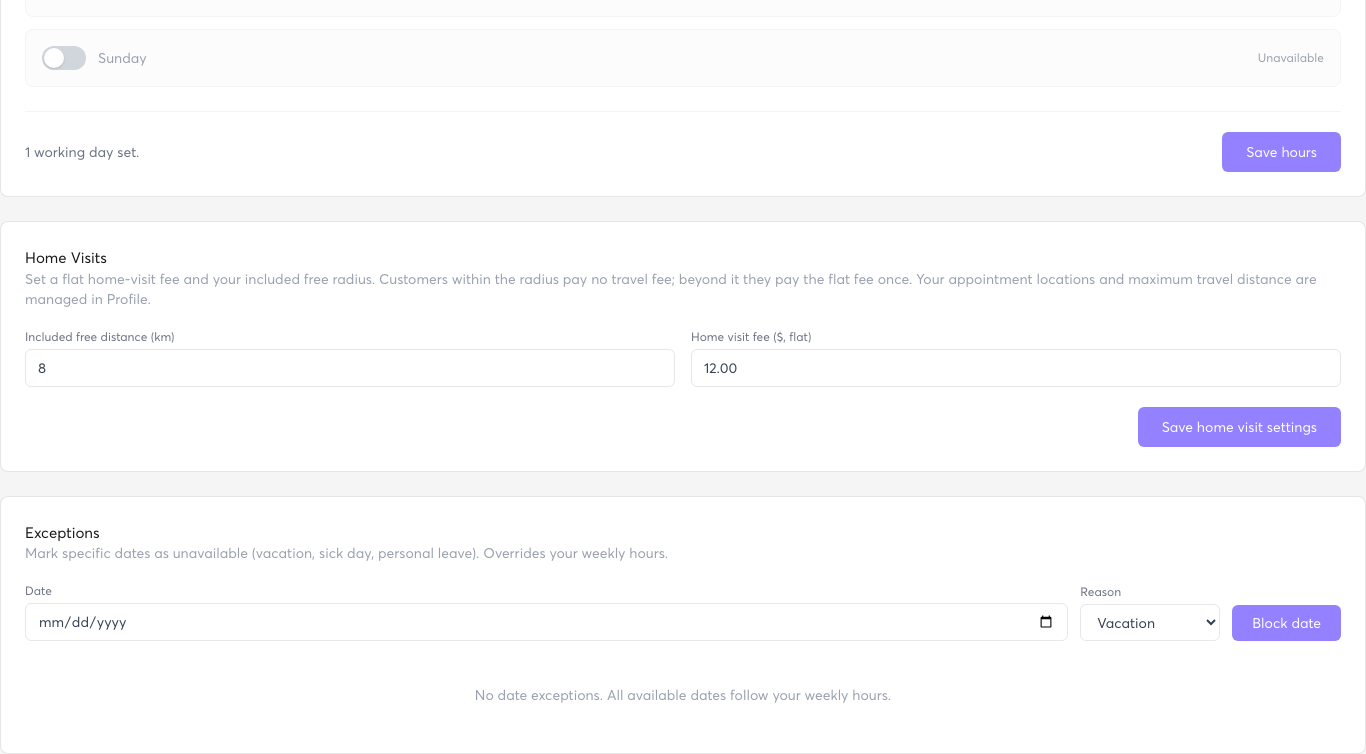
Test: says inline that a date is needed before blocking one
(page scrolled)
Click the button "Block date": (1287, 623) [1232,605,1341,641]
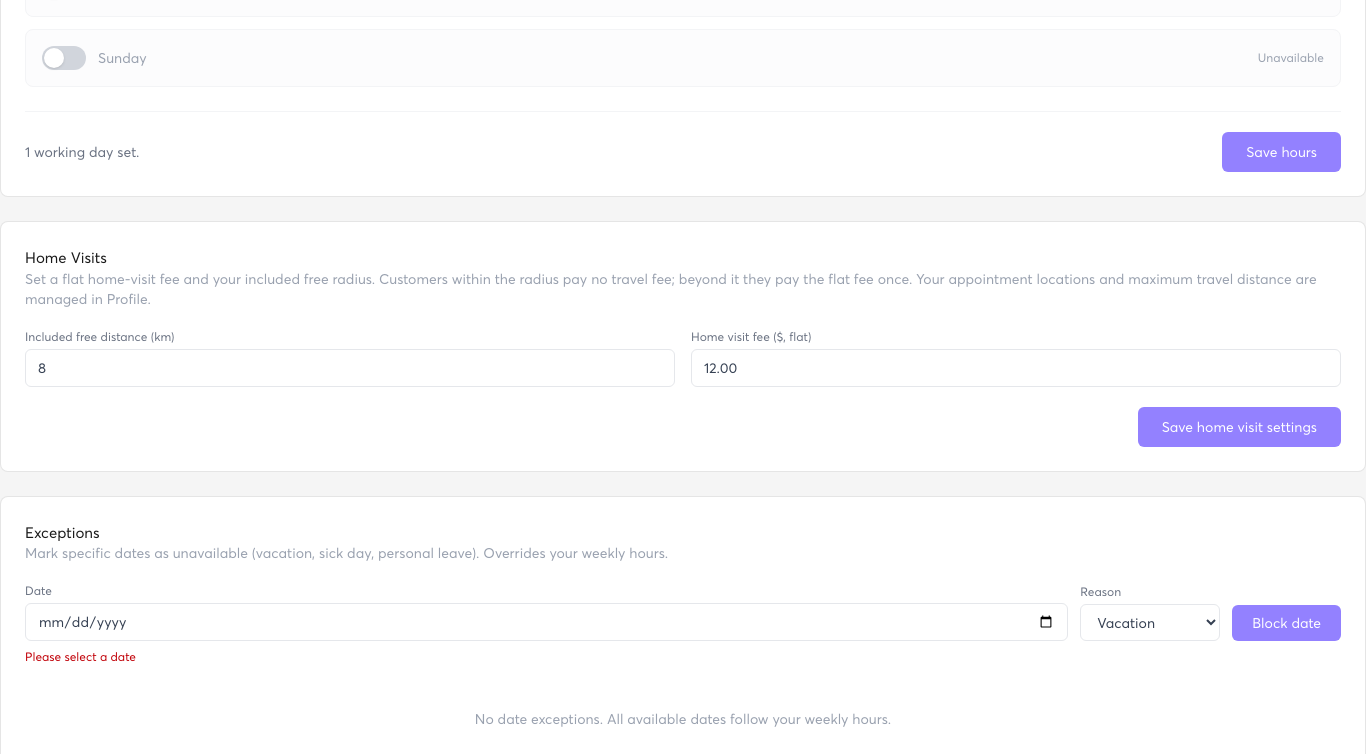
expect the text "Please select a date" is shown: met, box [25,649,136,664]
